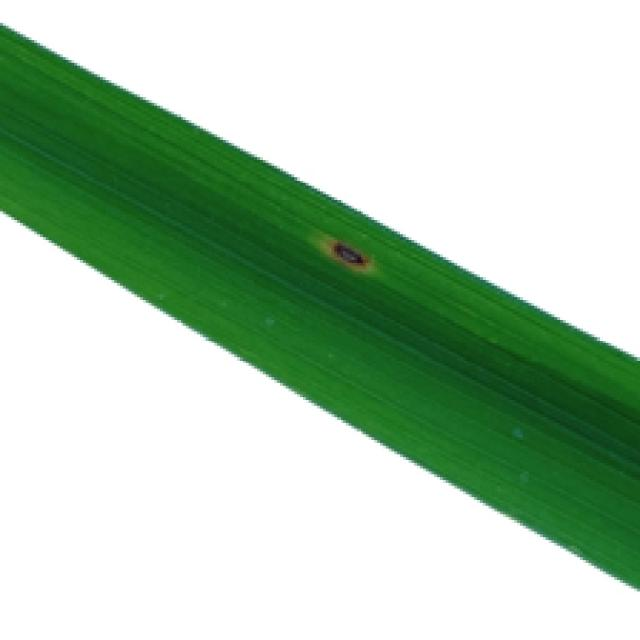Rice___Rice_Blast: (0, 21, 637, 591)
